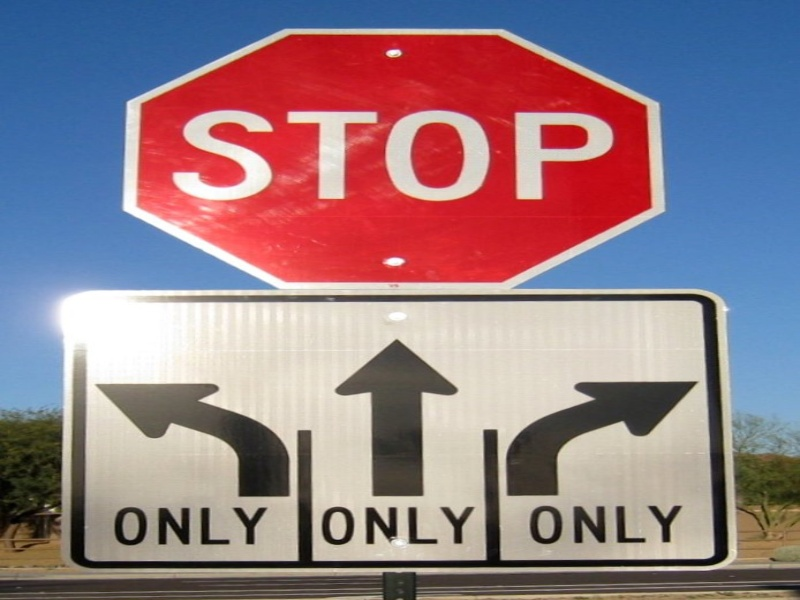left_direction: (76, 332, 288, 571)
right_direction: (494, 342, 721, 554)
stop: (101, 22, 702, 294)
straight_direction: (317, 340, 486, 548)
